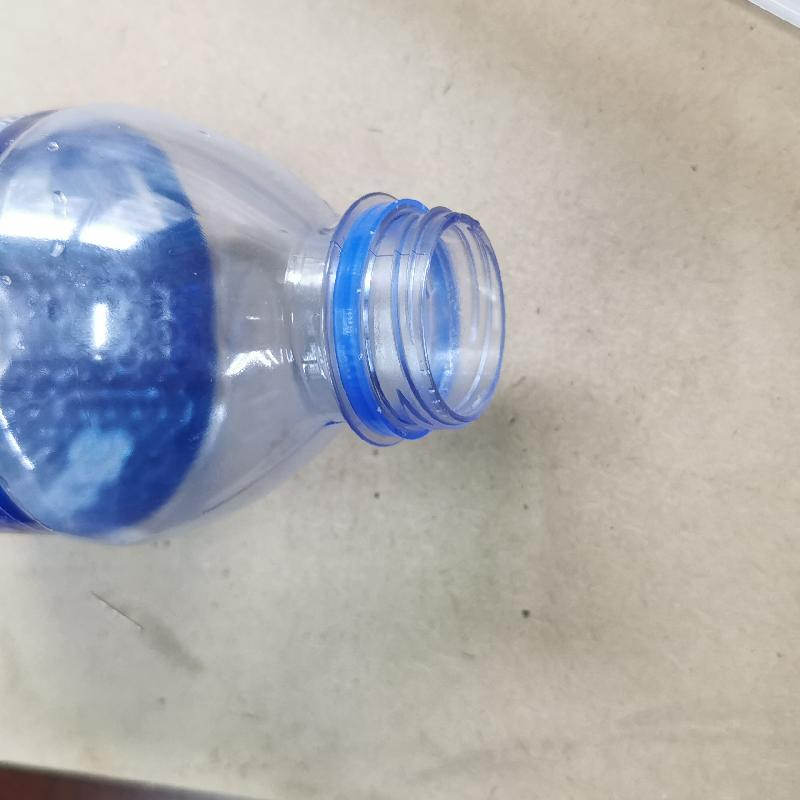bottles: (4, 96, 509, 549)
